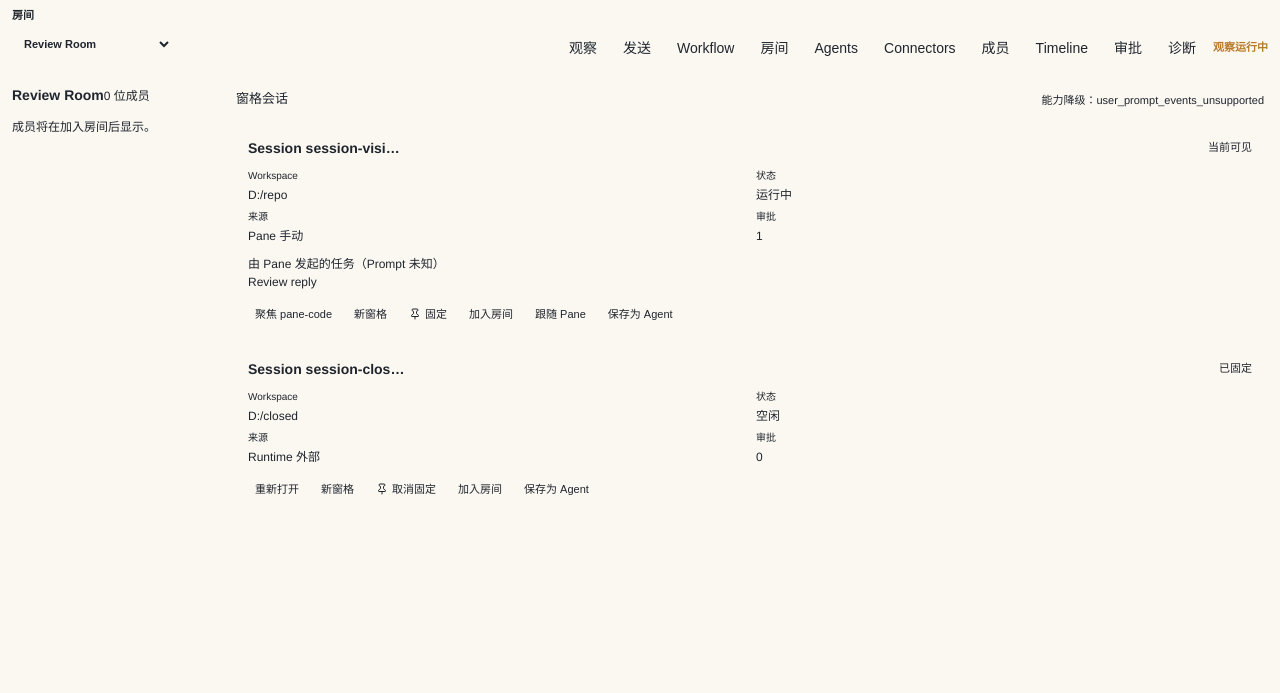
Test: AgentRoomPane observer UI › reports a missing Session and opens an explicit Agent form for an observed Session
Expected: the text "Session session-clos…" is shown, x1=248 y1=359 x2=404 y2=380
Click the button "重新打开". click: x=277, y=489
box: x1=248 y1=476 x2=306 y2=502
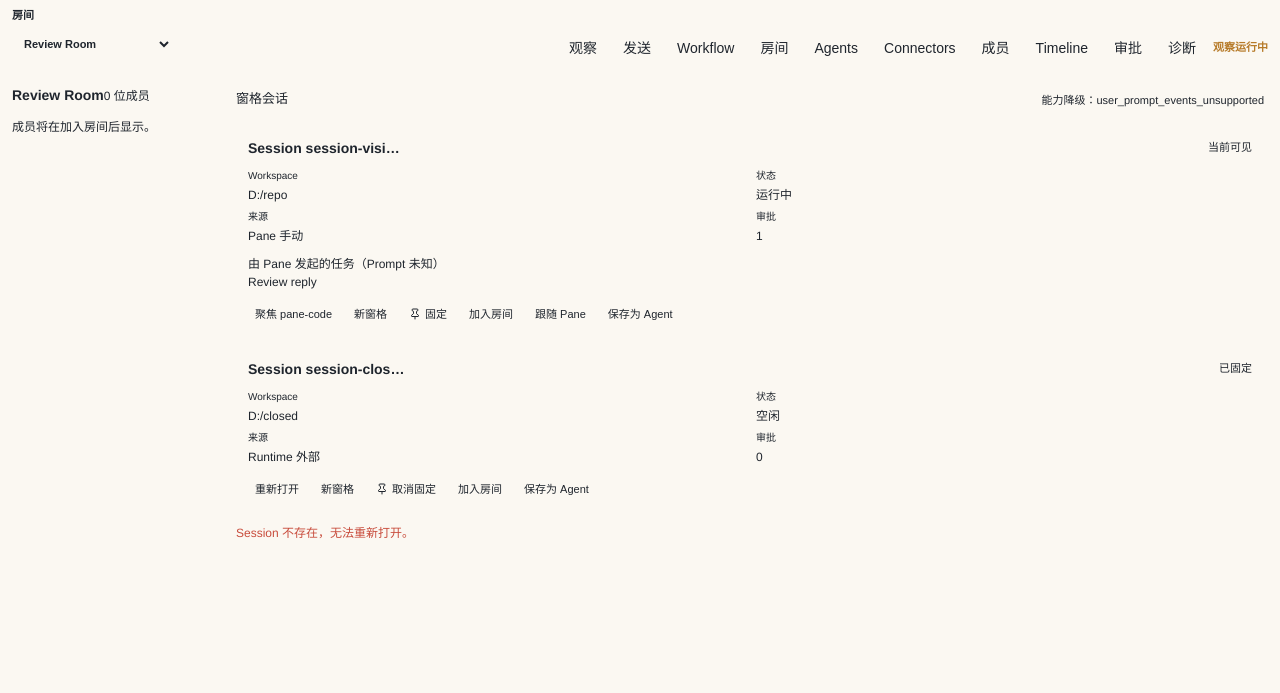
Expected: the message reads "Session 不存在，无法重新打开。", x1=236 y1=526 x2=414 y2=540
Click the button "保存为 Agent" below "session-visi…". click: x=640, y=314
box: x1=601 y1=301 x2=680 y2=327
(page scrolled)
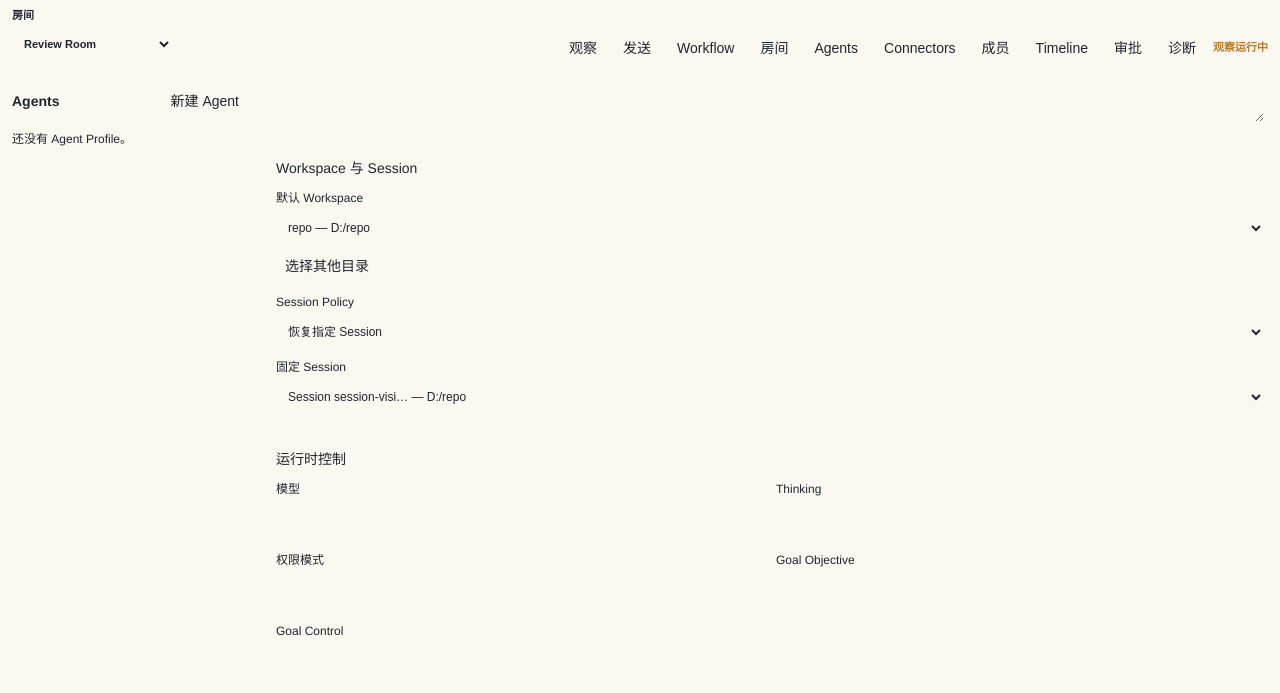
Expected: the dropdown labelled "默认 Workspace" shows "repo — D:/repo", x1=276 y1=212 x2=1264 y2=244
Expected: the dropdown labelled "固定 Session" shows "Session session-visi… — D:/repo", x1=276 y1=380 x2=1264 y2=412
